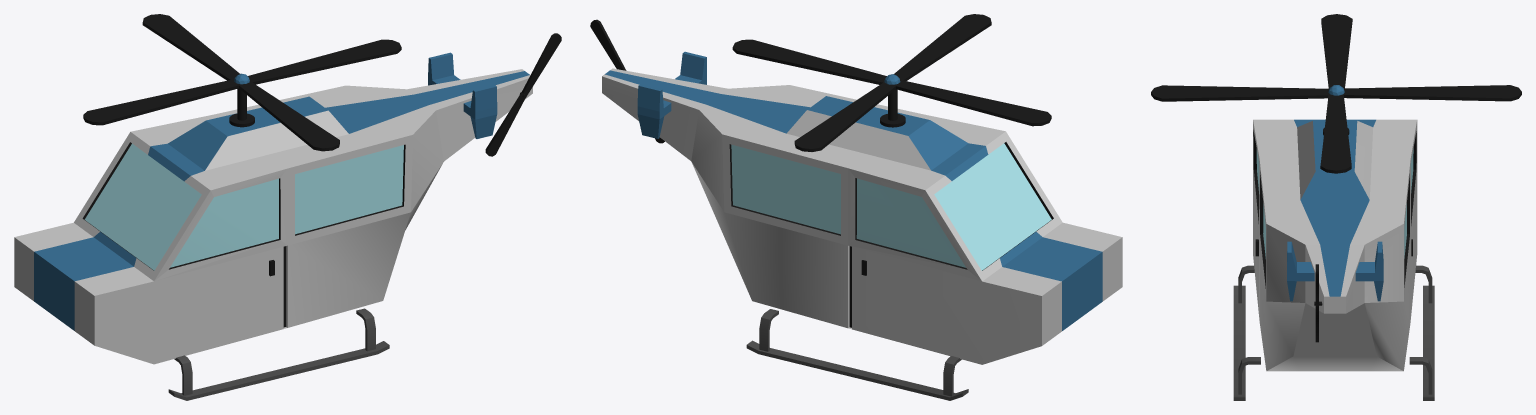
File: heli-grande.glb
3 views of the same model, side by side, from view 1: azimuth 30°, elevation 25°; view 2: azimuth 150°, elevation 25°; view 3: azimuth 270°, elevation 25° (orthographic). The views are drawn at different scales.
Visible parts, largest first — view 1: Box001; view 2: Box001; view 3: Box001.
Boxes of the visible parts, box(x1,y1,x2,y2) form: Box001: box(14, 14, 561, 400); Box001: box(590, 14, 1122, 400); Box001: box(1151, 14, 1521, 400).
Bounding box in the file's own units: 67.56 × 34.26 × 42.63.
